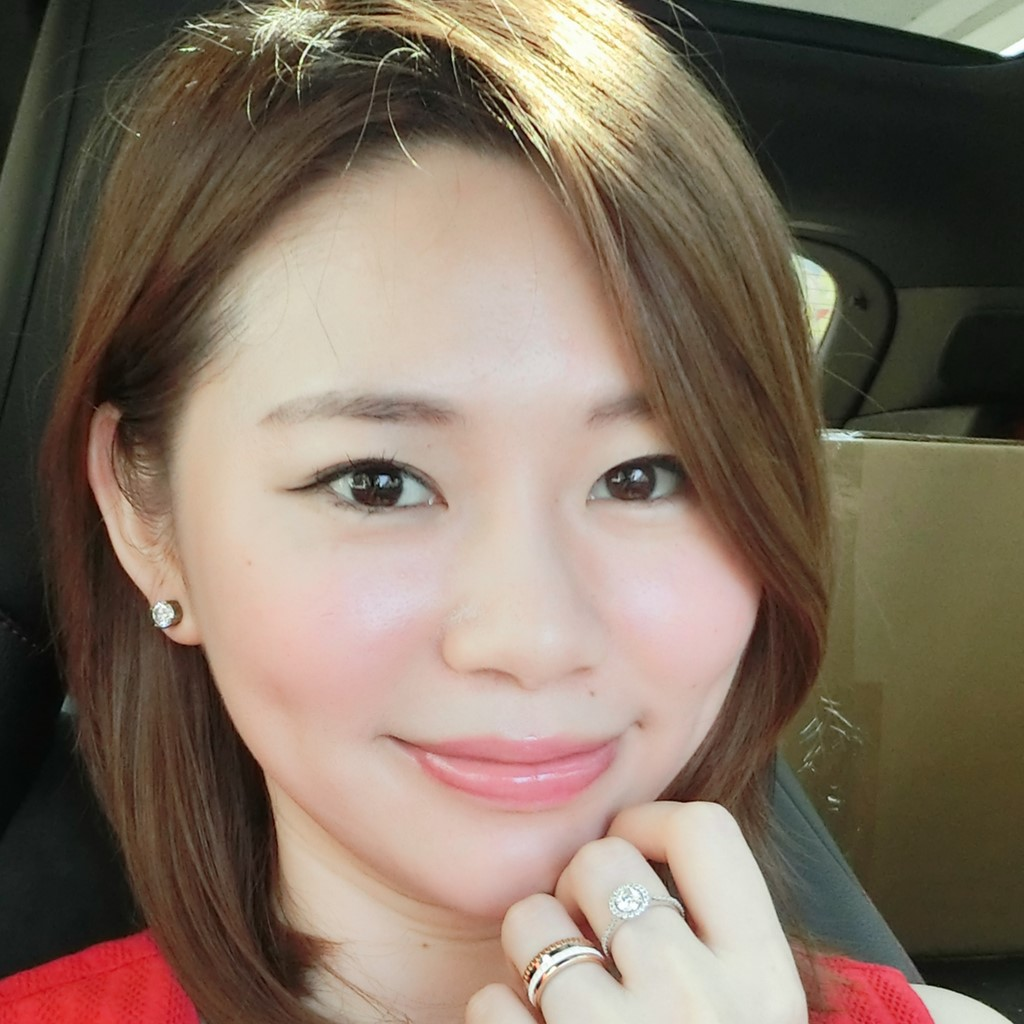sin_mascara: (141, 87, 758, 931)
